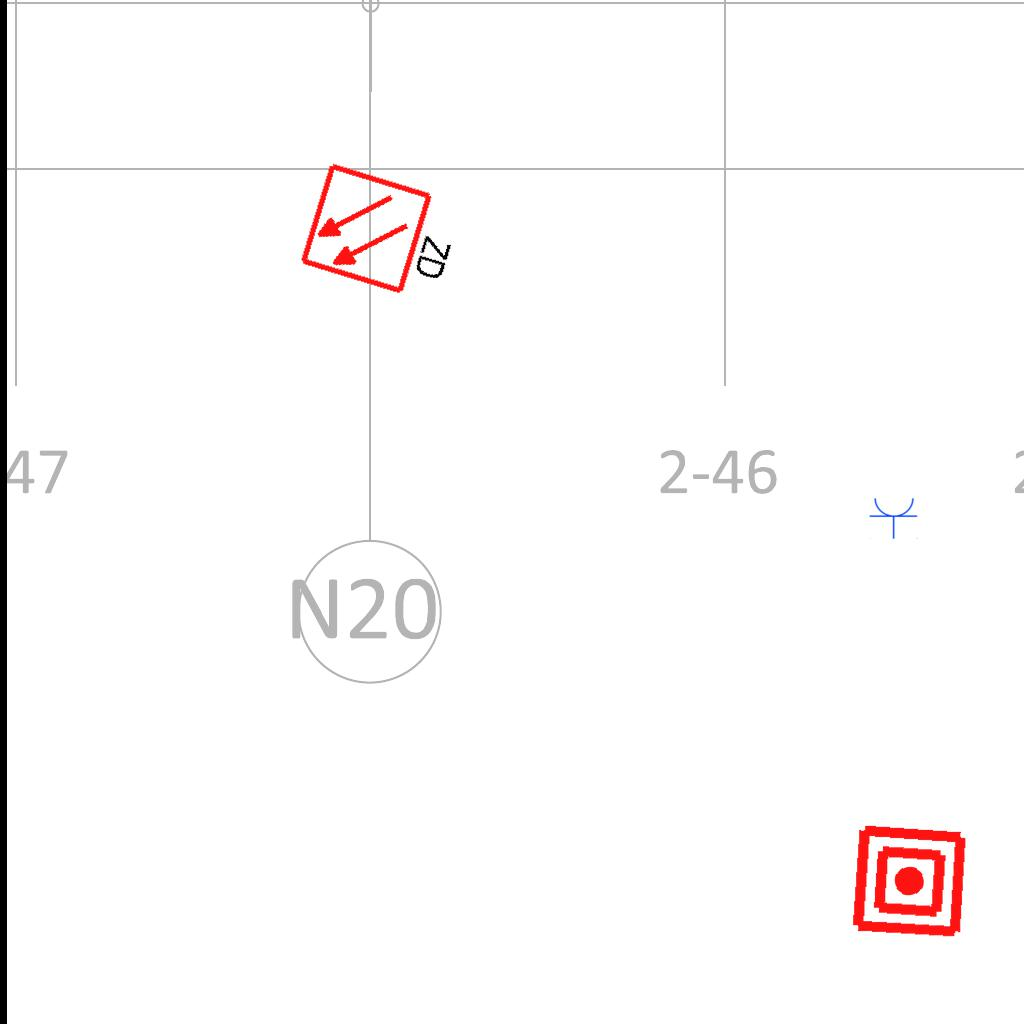NAM-Nichtautomatischer_Melder: (849, 821, 970, 942)
Schukosteckdose_einfach: (869, 496, 919, 539)
ZD_Melder_in_Zwischendecke_mit_Revisionsoeffnung_mind_40_x_40_cm: (297, 156, 473, 309)
